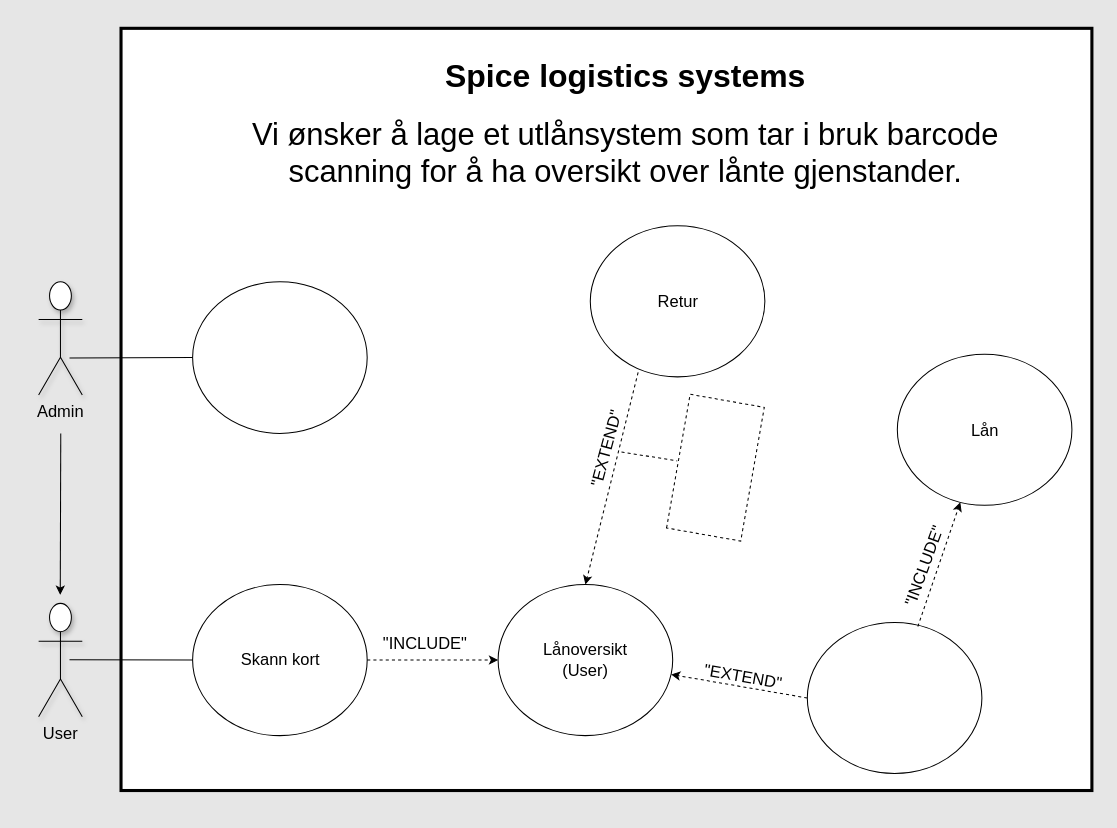
This 1117x828 diagram has some shape labels left out. The centre of each missing label's shape, as x and y in pixels:
Har tildigere "aktuelle" lån: point (714, 467)
Lånoversikt (Total): point (279, 357)
Skann gjennstand: point (894, 697)
